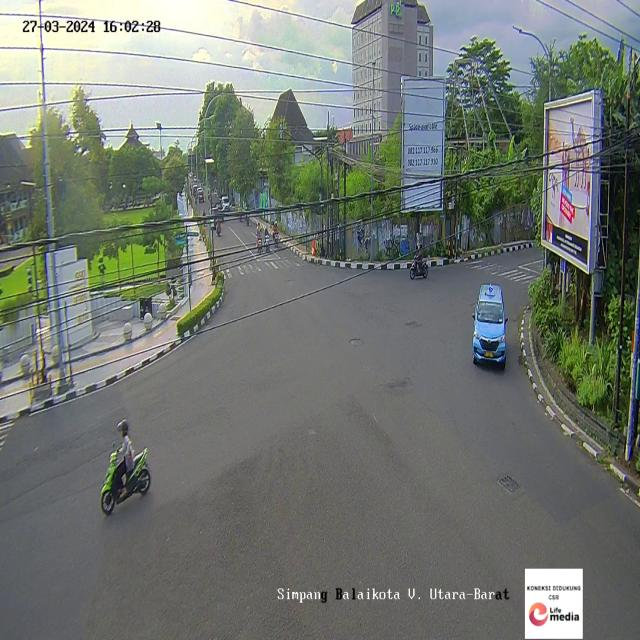car: (472, 281, 507, 371)
motorcycle: (100, 418, 150, 514), (408, 241, 429, 280), (272, 222, 281, 248), (256, 227, 264, 254), (263, 225, 270, 252)
